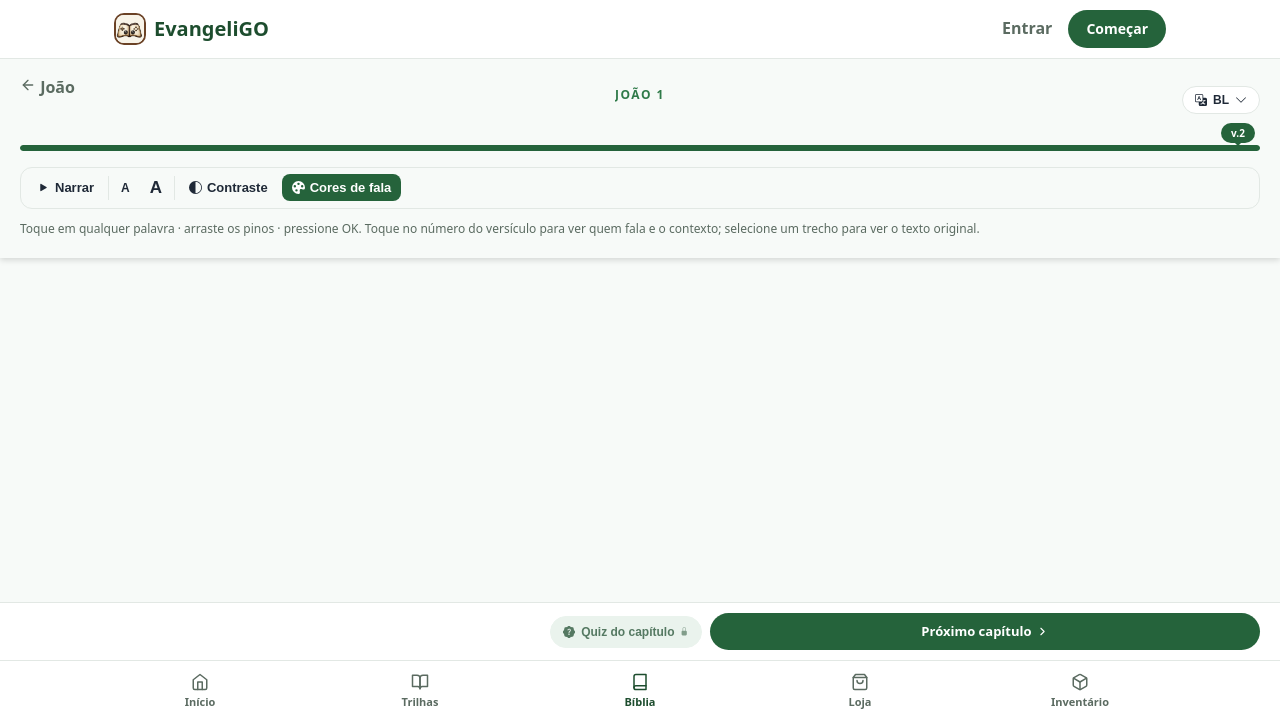
Test: LeituraPage › o dropdown de tradução mostra as 3 traduções reais e marca a ativa
Click the button with aria-label "Mudar tradução da Bíblia" at (1221, 100), box [1182,86,1260,114]
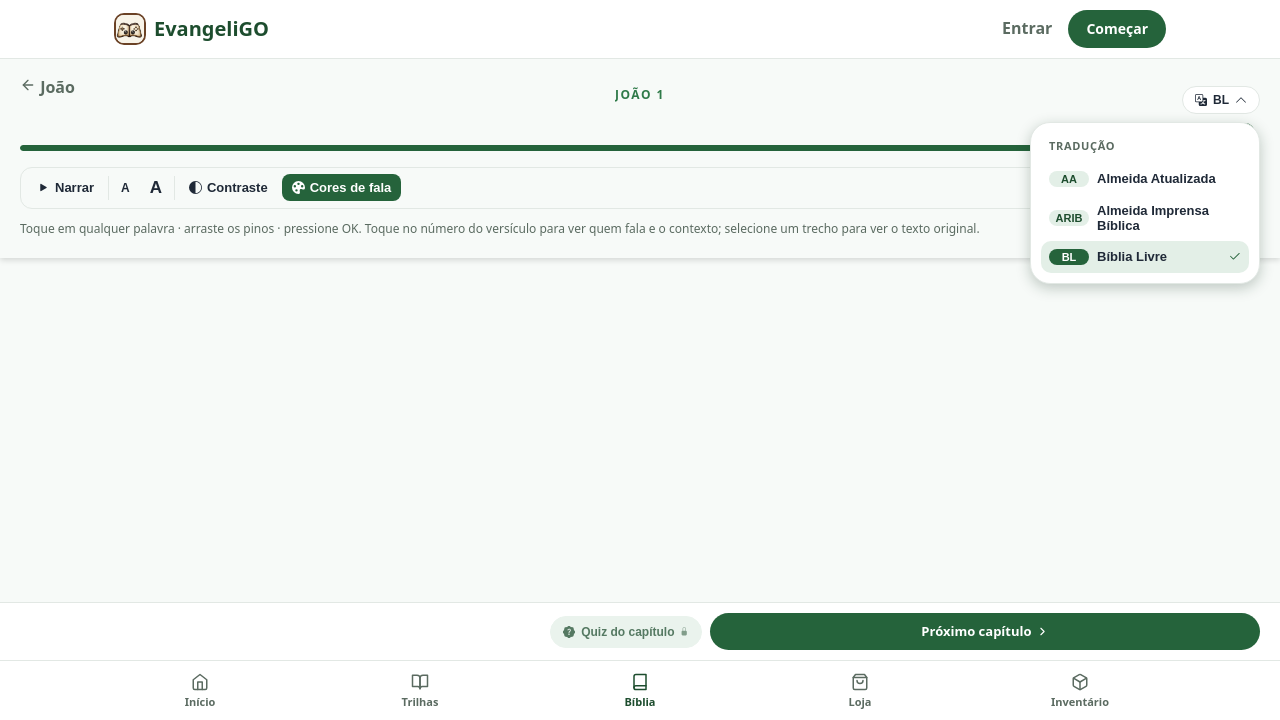
Expected: the text "Almeida Atualizada" is shown, [1097,171,1216,186]
Expected: the text "Almeida Imprensa Bíblica" is shown, [1097,203,1209,233]
Expected: the text "Bíblia Livre" is shown, [1097,249,1167,264]
